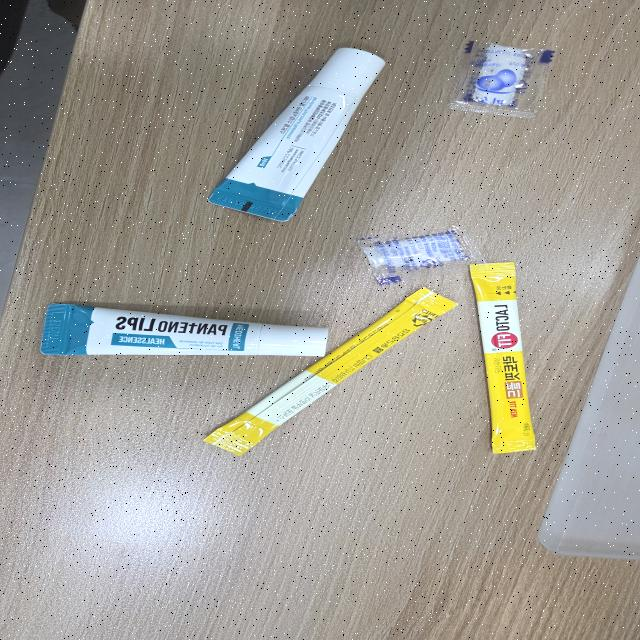lacto: (204, 287, 461, 456), (464, 262, 537, 456)
lib: (206, 46, 400, 222), (37, 302, 332, 357)
salt: (446, 38, 561, 118), (354, 224, 479, 287)
